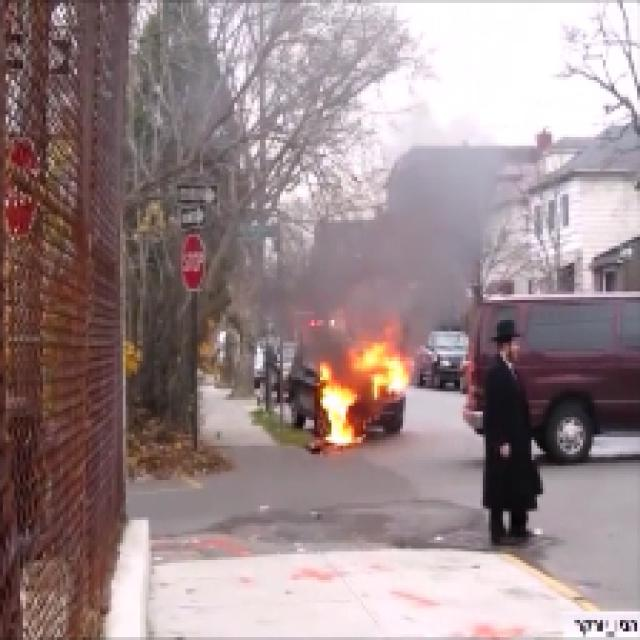fire: (310, 331, 408, 451)
smoke: (328, 197, 456, 323)
